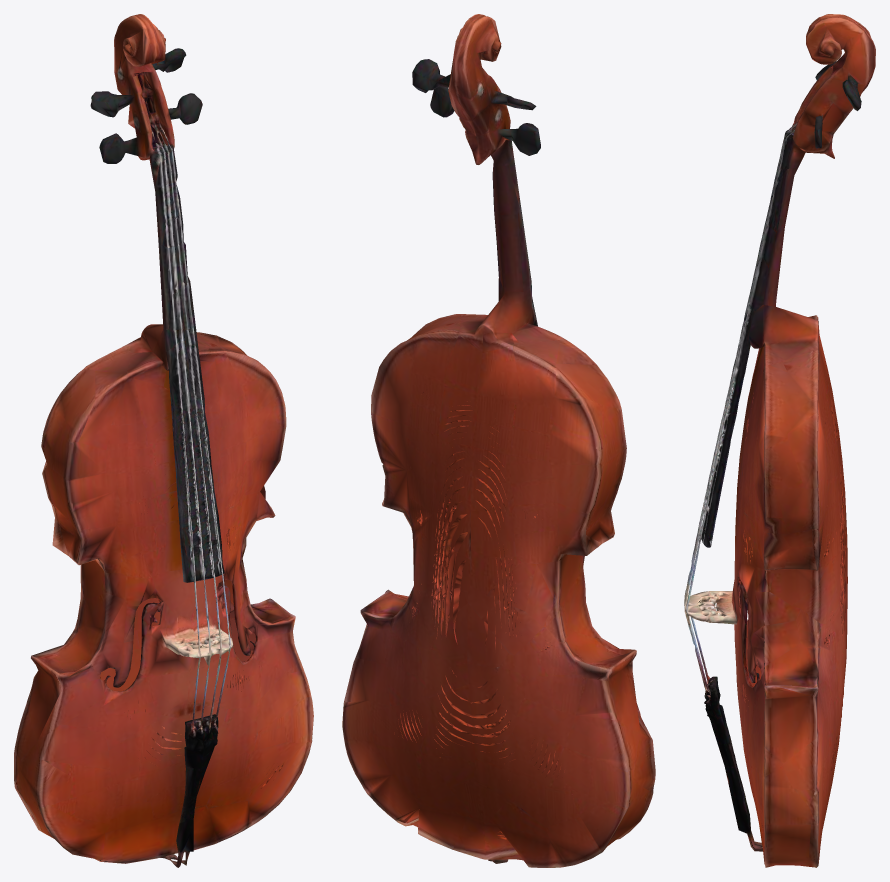
File: cello.glb
3 renders of one model, left to right at view 1: azimuth 30°, elevation 25°; view 2: azimuth 150°, elevation 25°; view 3: azimuth 270°, elevation 25°, orthographic. The views are drawn at different scales.
Visible parts, largest first — view 1: Mesh_0; view 2: Mesh_0; view 3: Mesh_0.
Part boxes in pixels (x1,y1,x2,y2): Mesh_0: [14, 14, 313, 867]; Mesh_0: [342, 14, 655, 867]; Mesh_0: [684, 14, 875, 867].
Size of the model in its own units: 0.6635 by 1.9 by 0.3951.
1 material, 1 textured.
